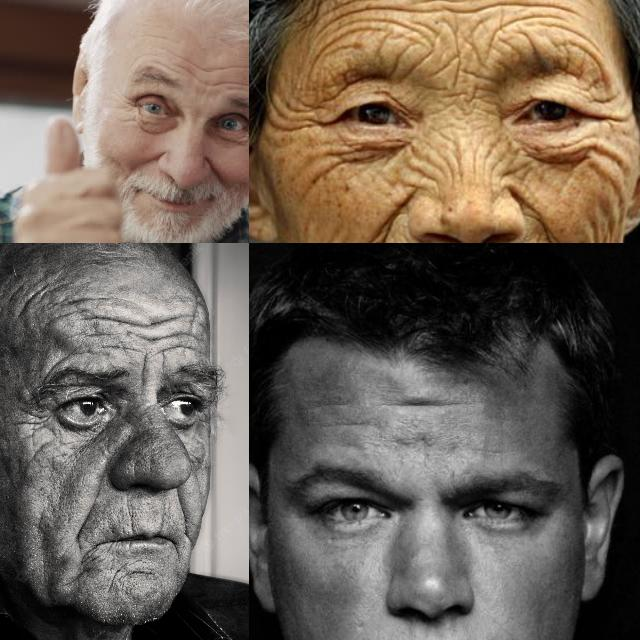bunny_line: (408, 147, 452, 193), (483, 142, 523, 185)
chin: (101, 560, 151, 588)
crows_feet: (278, 100, 322, 136), (20, 401, 52, 439), (603, 96, 631, 134), (120, 92, 138, 116)
forehead: (334, 0, 427, 32), (136, 312, 202, 352), (66, 292, 126, 332), (384, 390, 470, 416), (439, 0, 495, 25), (20, 284, 52, 320), (202, 61, 228, 93), (172, 50, 198, 74), (140, 28, 168, 42), (226, 75, 249, 91), (231, 58, 249, 74)
frown_line: (439, 38, 488, 108), (135, 353, 153, 391)
gummy_smile: (525, 199, 574, 243), (76, 469, 104, 538), (354, 197, 394, 243), (172, 488, 194, 538), (134, 150, 164, 168), (204, 160, 226, 184)
masseter: (592, 216, 617, 243)
sad_smile: (71, 548, 99, 588)
